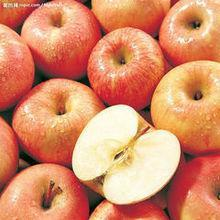apple: (13, 83, 104, 173), (149, 65, 220, 161), (92, 27, 173, 111), (17, 3, 100, 81), (1, 165, 91, 220), (157, 1, 220, 66), (166, 155, 220, 218), (1, 1, 40, 31)
